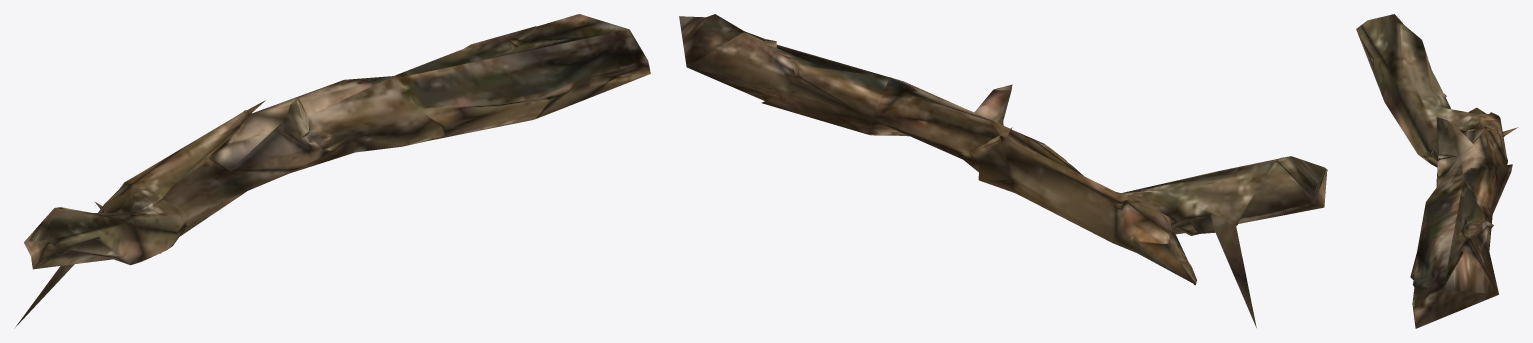
Rendered from dead_tree_trunk_02_lod.glb.
3 views of the same model, side by side, from view 1: azimuth 30°, elevation 25°; view 2: azimuth 150°, elevation 25°; view 3: azimuth 270°, elevation 25° (orthographic).
Visible parts, largest first — view 1: dead_tree_trunk_02; view 2: dead_tree_trunk_02; view 3: dead_tree_trunk_02.
Part boxes in pixels (x1,y1,x2,y2): dead_tree_trunk_02: (14, 14, 650, 328); dead_tree_trunk_02: (679, 14, 1327, 327); dead_tree_trunk_02: (1356, 14, 1518, 328).
Bounding box in the file's own units: 3.73 × 1.02 × 0.8371.
1 material, 1 textured.
